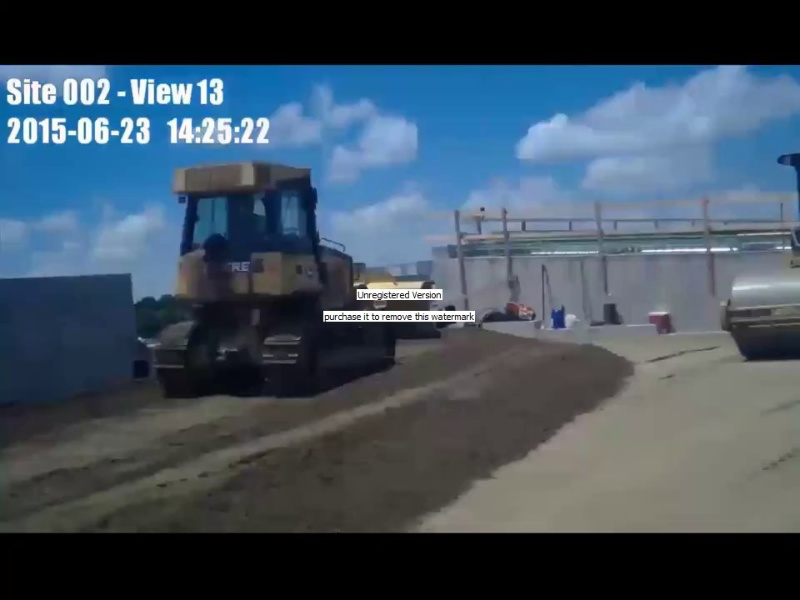bulldozer: (152, 160, 435, 399)
wood: (424, 193, 800, 253)
